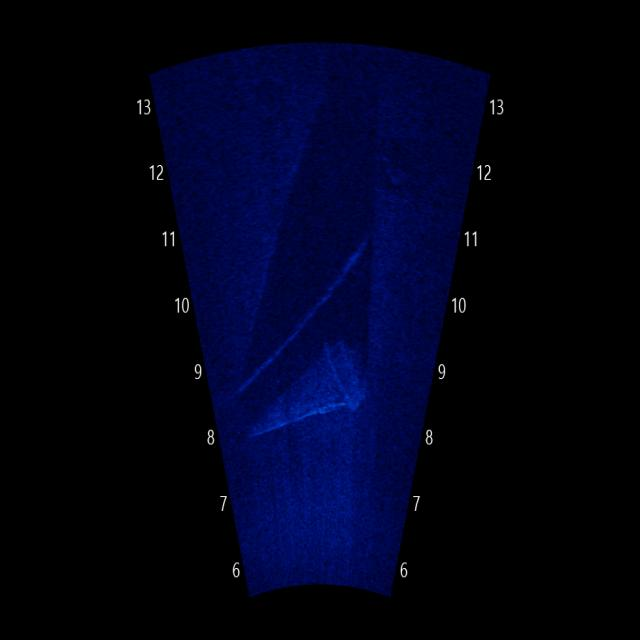triangle: (234, 344, 374, 436)
